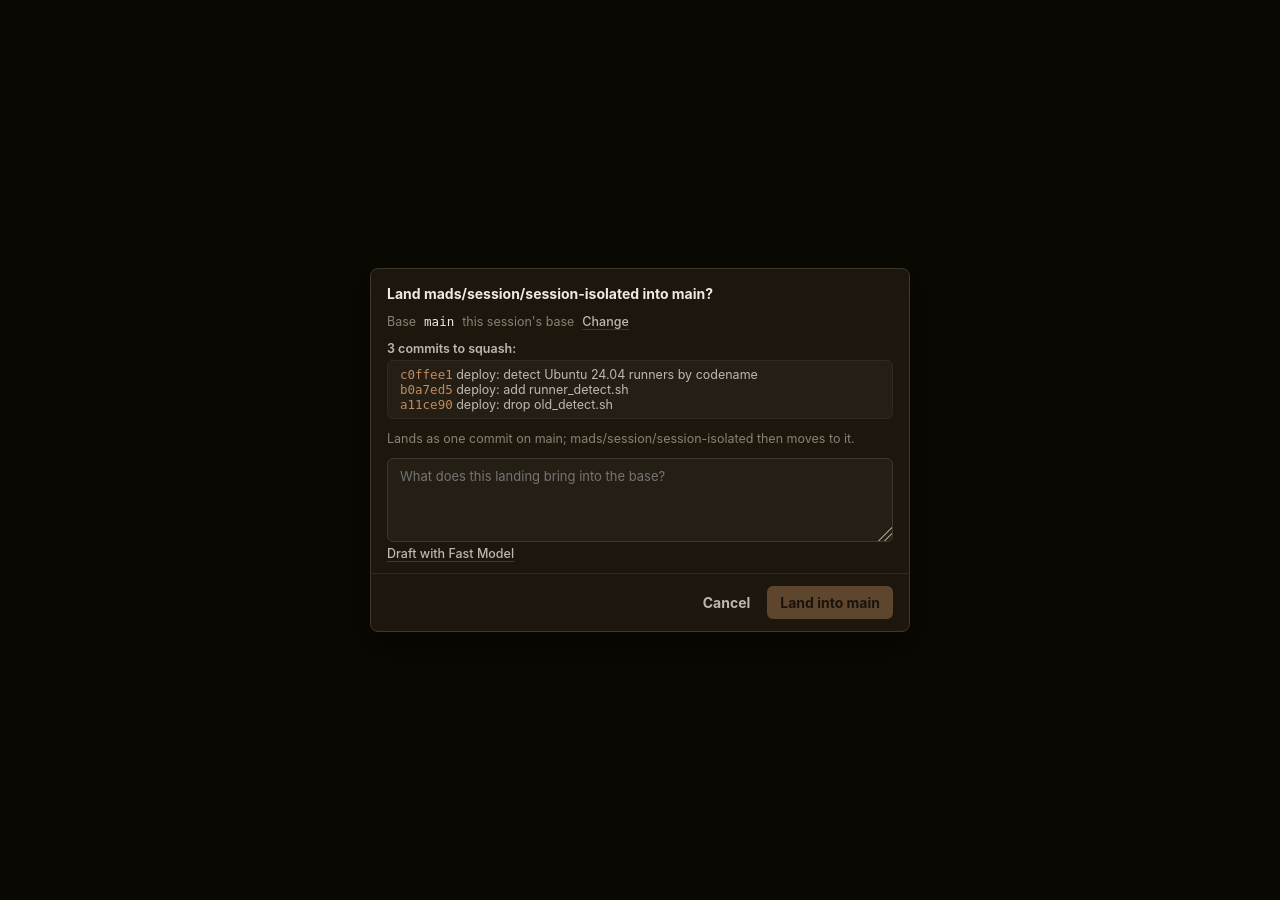
Test: LandDialog (COMMIT-LAND-PUSH D12) › says why a draft couldn't be made
Step 1. Click the button "Draft with Fast Model" → (451, 554), box [387,546,514,561]
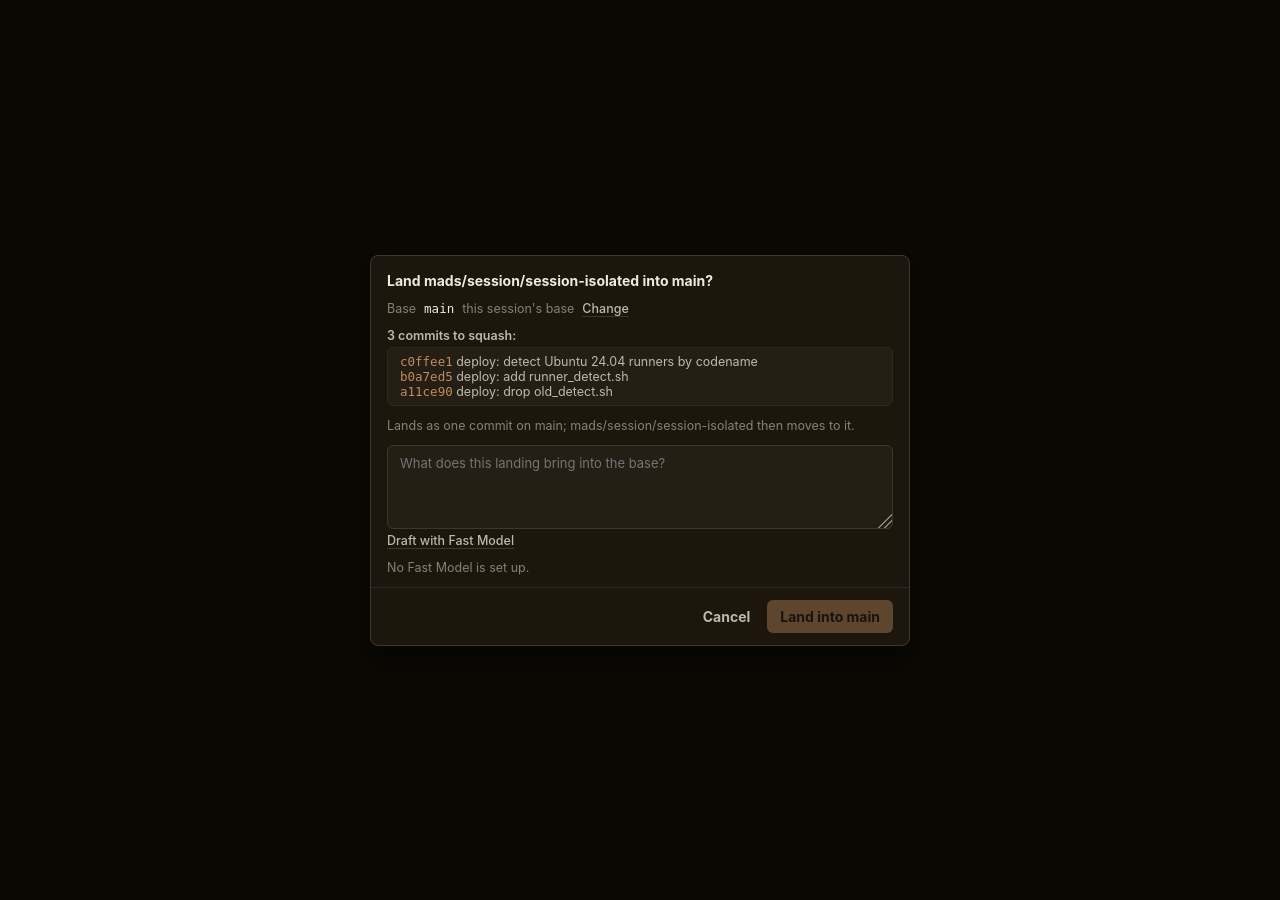
Expected: the text box named "Landing message" is empty, [387,444,893,528]
Expected: the text "No Fast Model is set up." is shown, [387,560,529,574]
